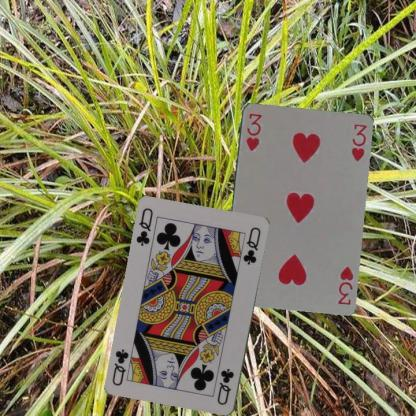3h: (243, 110, 263, 154), (335, 264, 355, 306)
Qc: (215, 366, 236, 407), (134, 205, 154, 247)
